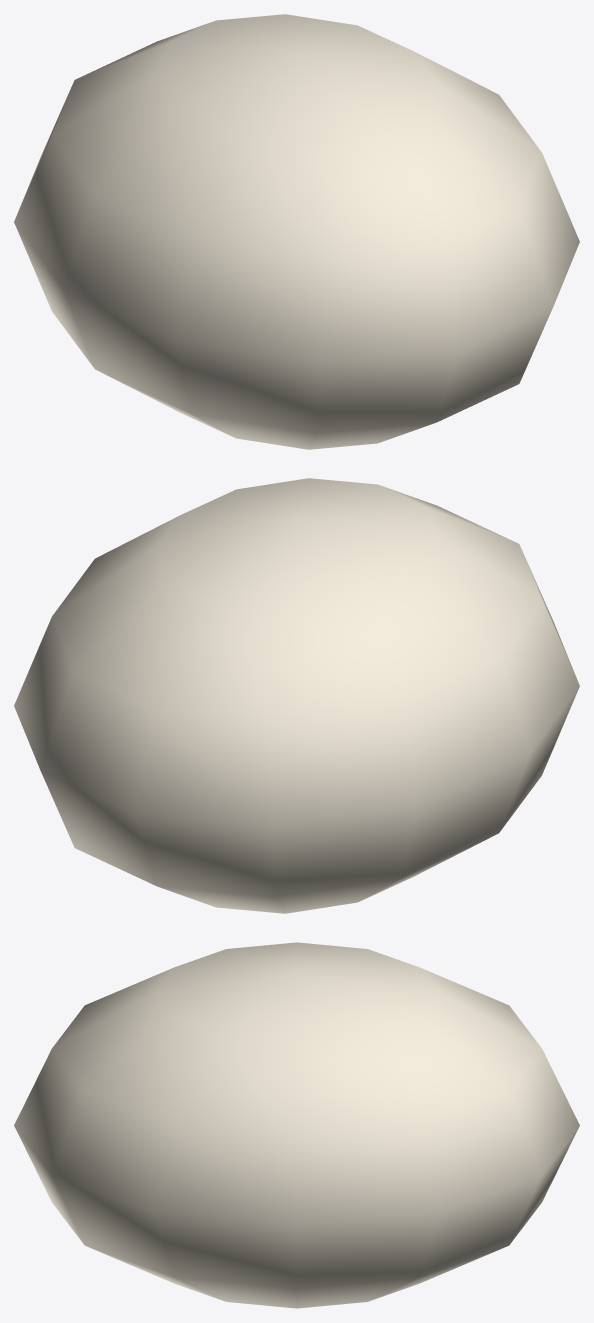
The model's file is orb4_near_variant_0.glb.
3 views of the same model, one above another, from view 1: azimuth 30°, elevation 25°; view 2: azimuth 150°, elevation 25°; view 3: azimuth 270°, elevation 25° (orthographic). The views are drawn at different scales.
Visible parts, largest first — view 1: orb4_near_variant_0__orb3-ivory-ceramic; view 2: orb4_near_variant_0__orb3-ivory-ceramic; view 3: orb4_near_variant_0__orb3-ivory-ceramic.
Part boxes in pixels (box(x1,y1,x2,y2)): orb4_near_variant_0__orb3-ivory-ceramic: box(14, 14, 579, 449); orb4_near_variant_0__orb3-ivory-ceramic: box(14, 478, 579, 913); orb4_near_variant_0__orb3-ivory-ceramic: box(14, 942, 579, 1308).
Size of the model in its own units: 0.5 by 0.36 by 0.6.
